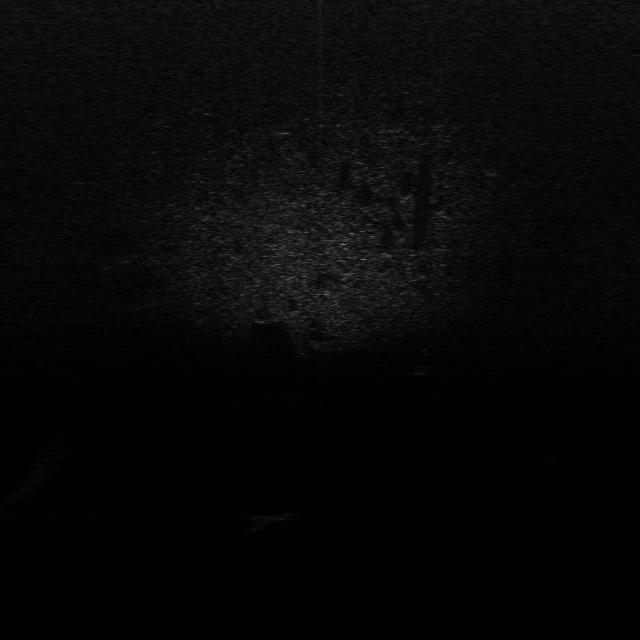square cage: (252, 501, 297, 528)
tyre: (412, 344, 439, 378)
